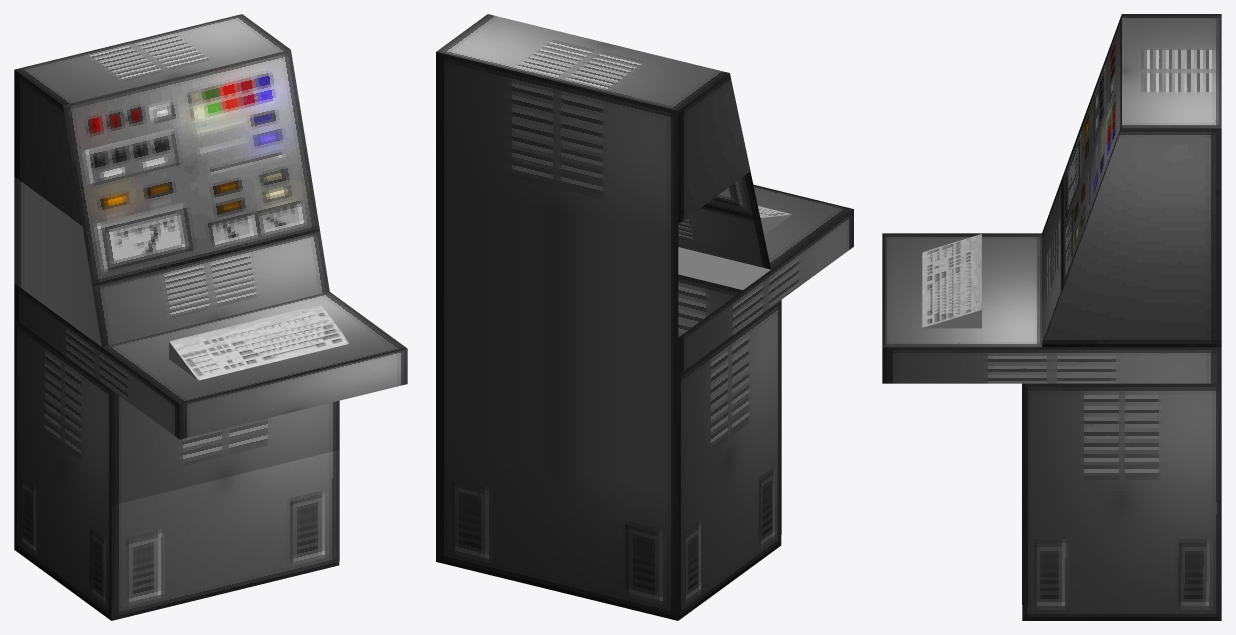
The model's file is primary_086.glb.
3 renders of one model, left to right at view 1: azimuth 30°, elevation 25°; view 2: azimuth 150°, elevation 25°; view 3: azimuth 270°, elevation 25°, orthographic. The views are drawn at different scales.
Parts seen in each view (by area): view 1: Object; view 2: Object; view 3: Object.
Boxes of the visible parts, box(x1,y1,x2,y2) form: Object: box(14, 14, 407, 620); Object: box(436, 14, 853, 620); Object: box(882, 14, 1221, 620).
Bounding box in the file's own units: 0.8845 × 1.78 × 1.11.
Materials: 21 (21 with a texture image).
